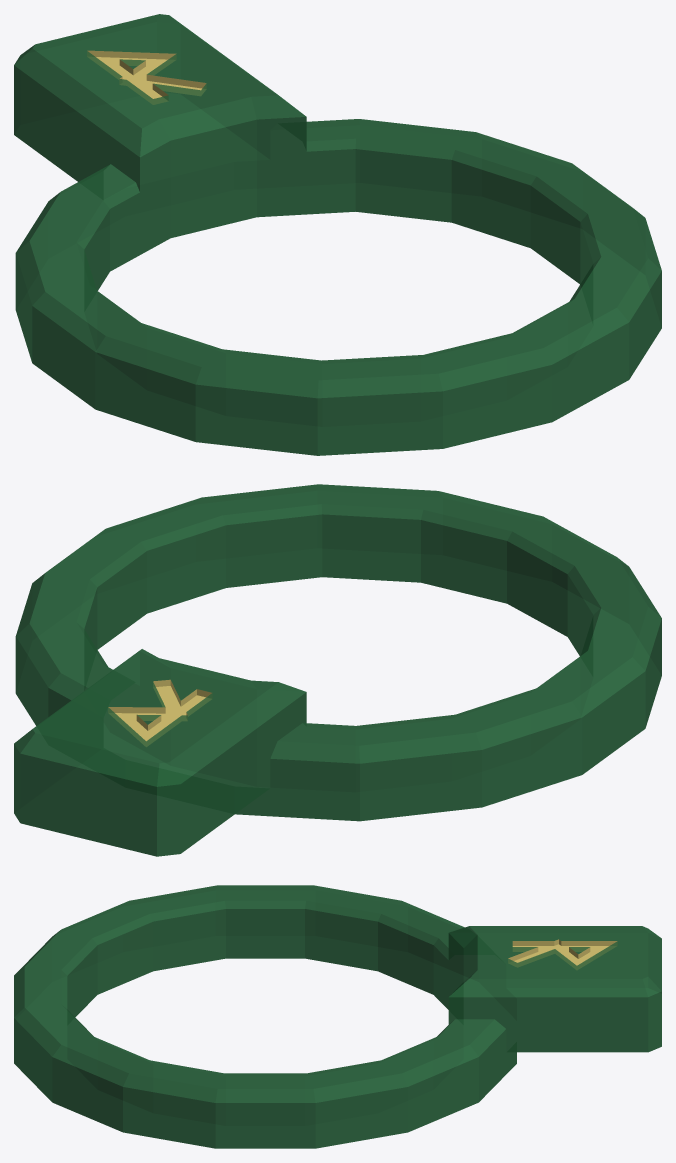
Rendered from condition-ring-df5a73.glb.
3 renders of one model, top to bottom at view 1: azimuth 30°, elevation 25°; view 2: azimuth 150°, elevation 25°; view 3: azimuth 270°, elevation 25°, orthographic. The views are drawn at different scales.
Parts seen in each view (by area): view 1: acrylic, rune; view 2: acrylic, rune; view 3: acrylic, rune.
Part boxes in pixels (left/top/right/bottom): acrylic: left=14, top=14, right=661, bottom=455; rune: left=87, top=50, right=206, bottom=104; acrylic: left=14, top=484, right=661, bottom=856; rune: left=108, top=679, right=212, bottom=746; acrylic: left=14, top=885, right=661, bottom=1148; rune: left=508, top=939, right=617, bottom=969.
Bounding box in the file's own units: 0.033 × 0.0065 × 0.0425.
